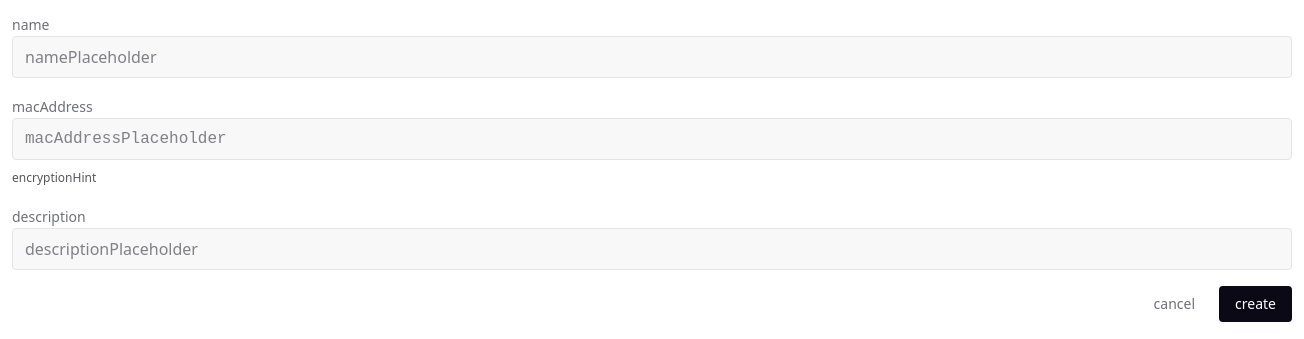
it: DeviceForm › shows MAC format error on blur, not only at submit
This screenshot has width=1304, height=339.
Step 1. Type "not-a-mac" into the field with placeholder "macAddressPlaceholder" → x=652, y=139, box [12, 118, 1292, 160]
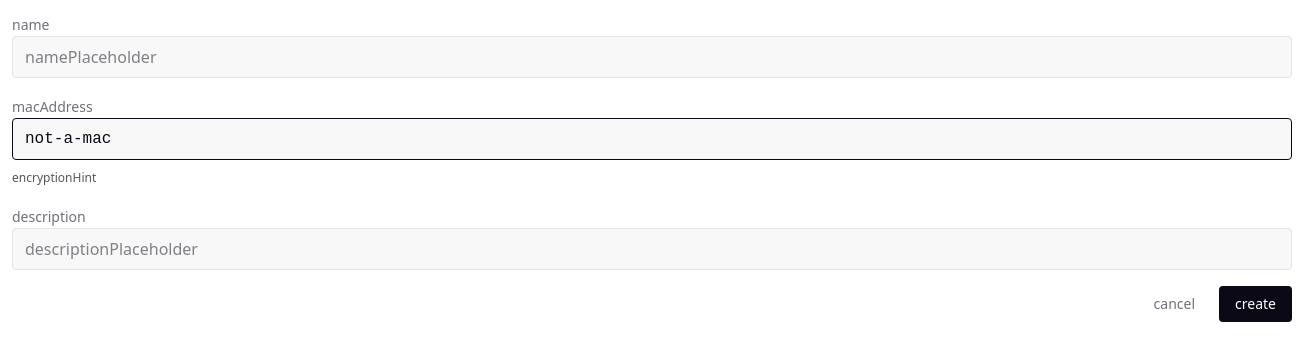
Step 2. Press Tab
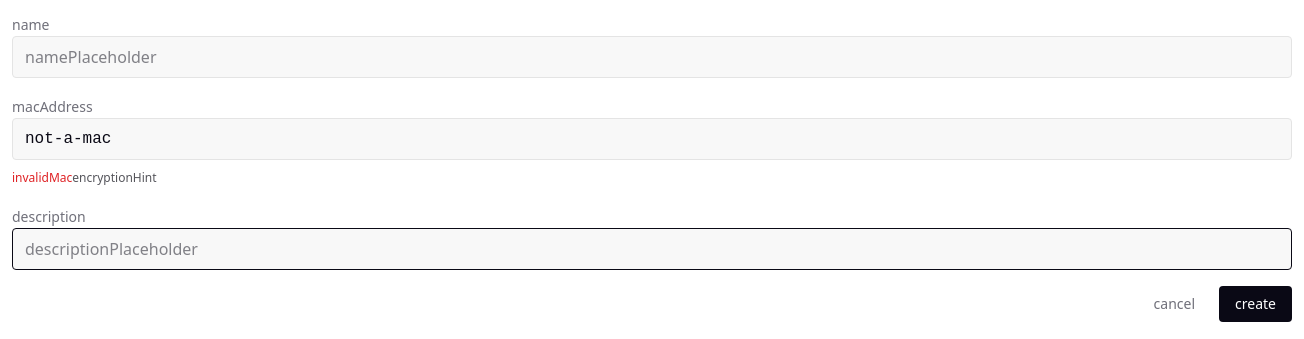
Result: the text "invalidMac" is shown at [12, 169, 72, 186]
